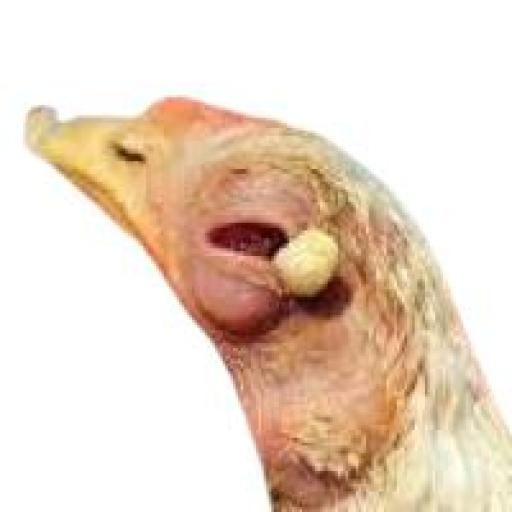disease: (190, 162, 351, 321)
